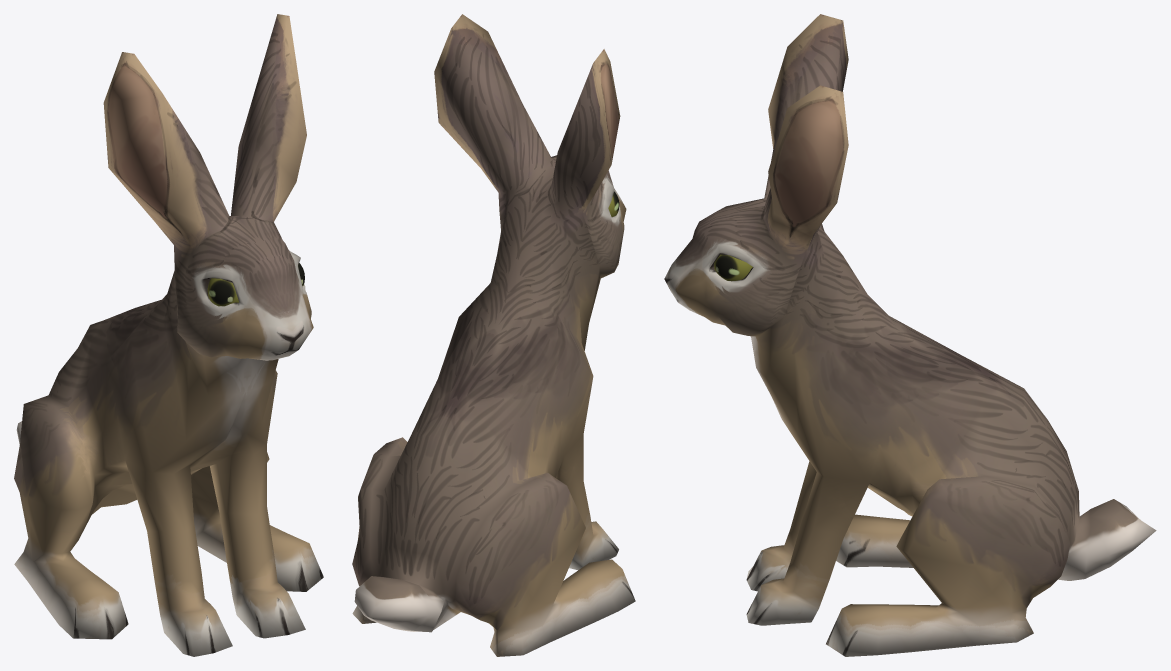
Rendered from jänisanimaatio.fbx.
3 renders of one model, left to right at view 1: azimuth 30°, elevation 25°; view 2: azimuth 150°, elevation 25°; view 3: azimuth 270°, elevation 25°, orthographic. The views are drawn at different scales.
Visible parts, largest first — view 1: 3, silmä; view 2: 3; view 3: 3, silmä.
Part boxes in pixels (bbox=[...]): 3: bbox=[14, 14, 323, 656]; silmä: bbox=[207, 263, 304, 306]; 3: bbox=[352, 14, 635, 656]; 3: bbox=[664, 14, 1156, 656]; silmä: bbox=[714, 254, 752, 281].
Size of the model in its own units: 202 by 449 by 364.
Materials: 2 (2 with a texture image).
